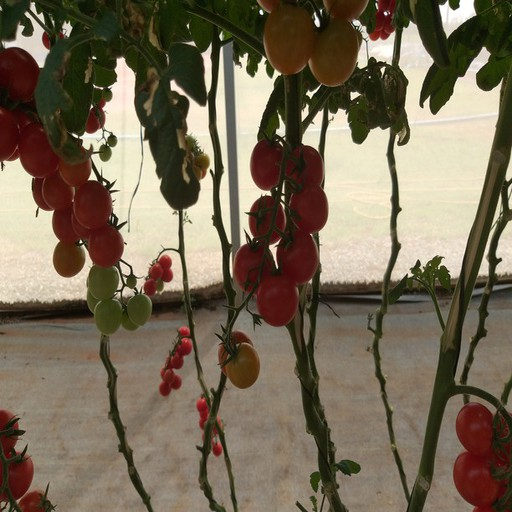red tomato bunch: (4, 46, 124, 276), (234, 136, 328, 327), (258, 1, 373, 87), (41, 30, 114, 131), (454, 402, 511, 512), (1, 404, 40, 512), (159, 327, 195, 396), (195, 396, 227, 459), (144, 252, 173, 303), (371, 1, 402, 43)
